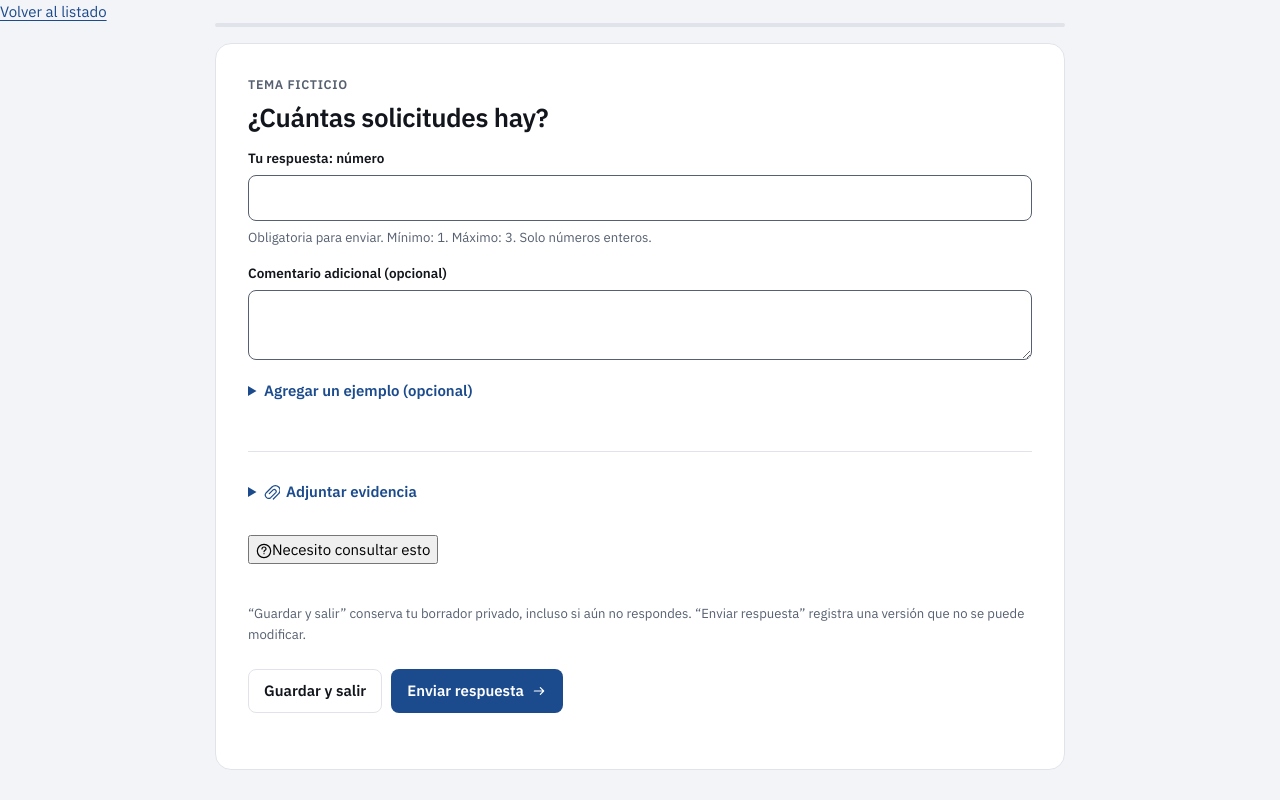
Scenario: cerrar el diálogo durante un guardado no reanuda después una salida que ya se canceló
Type "2" into the field labelled "Tu respuesta: número".
click(640, 198); type("2")  # box [248,175,1032,221]
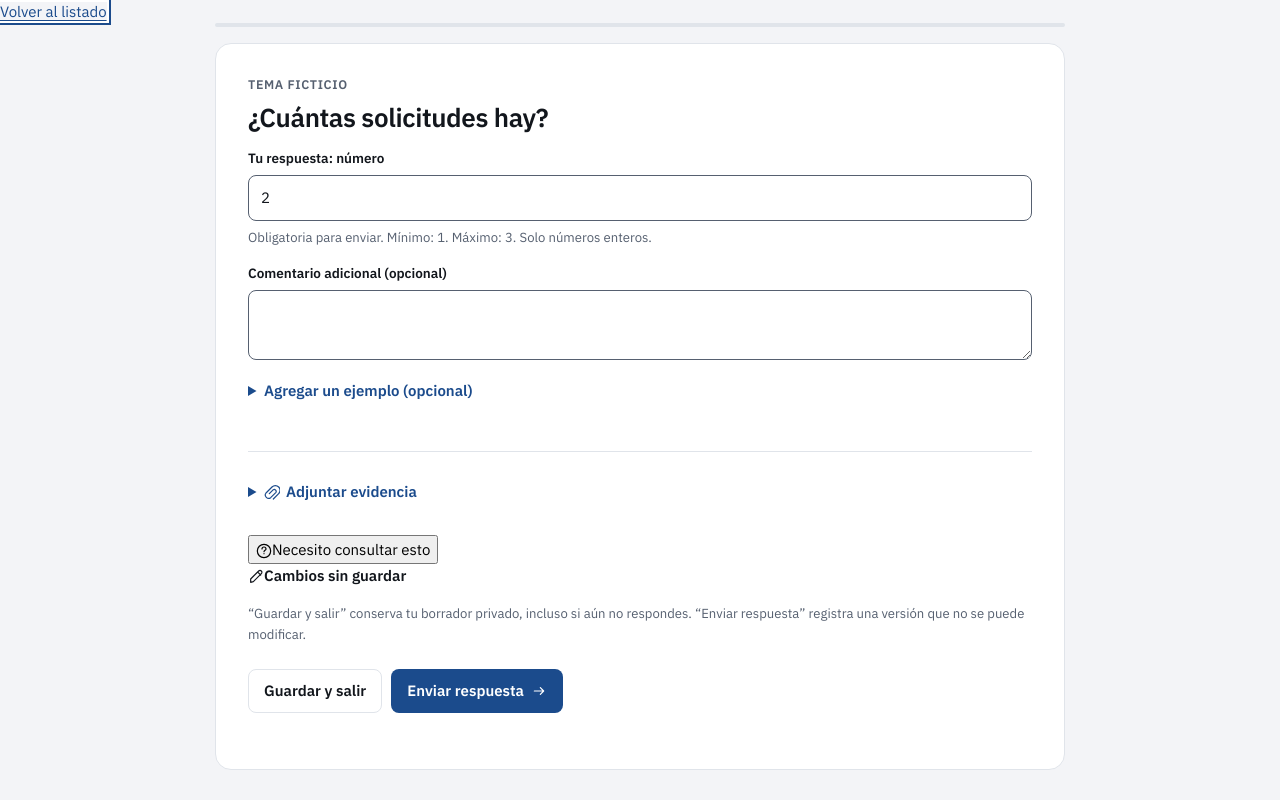
Click the link "Volver al listado".
click(53, 12)  # box [0,2,107,21]
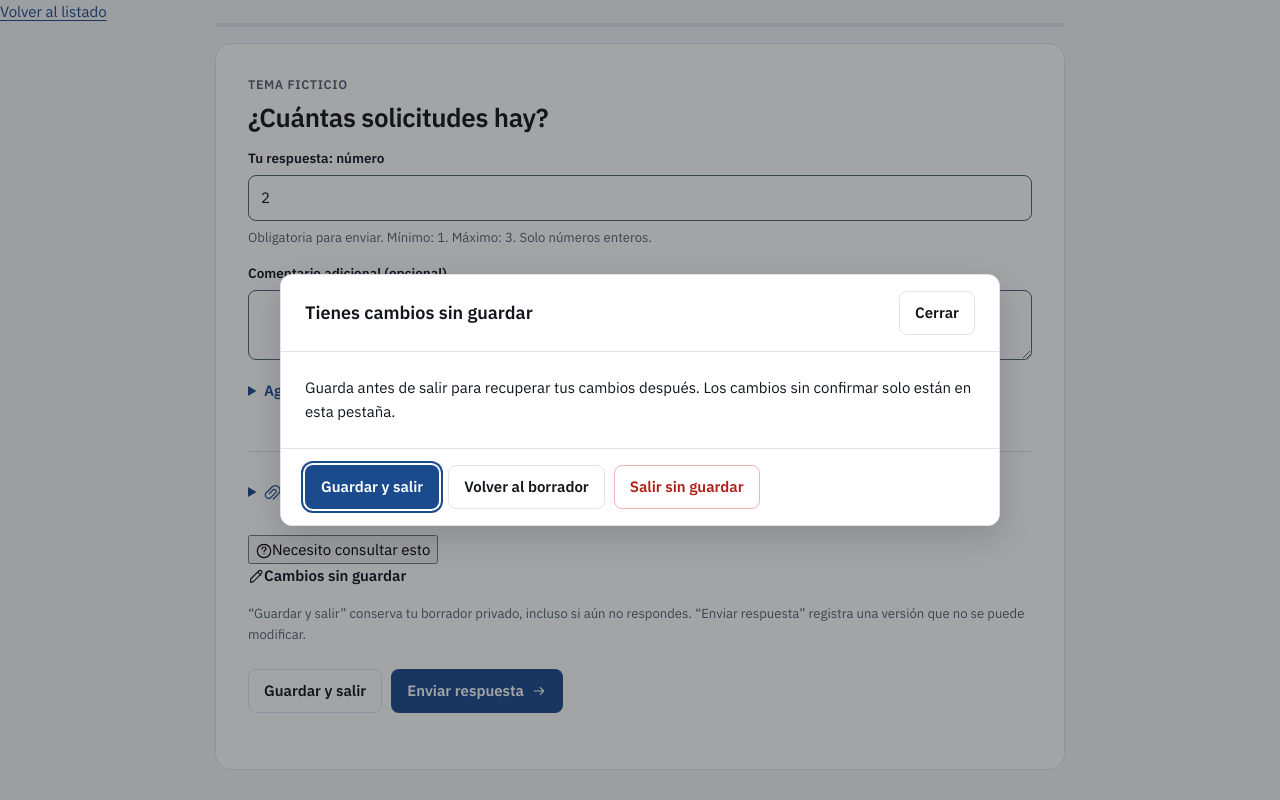
Click the button "Guardar y salir".
click(372, 487)  # box [305,465,439,509]
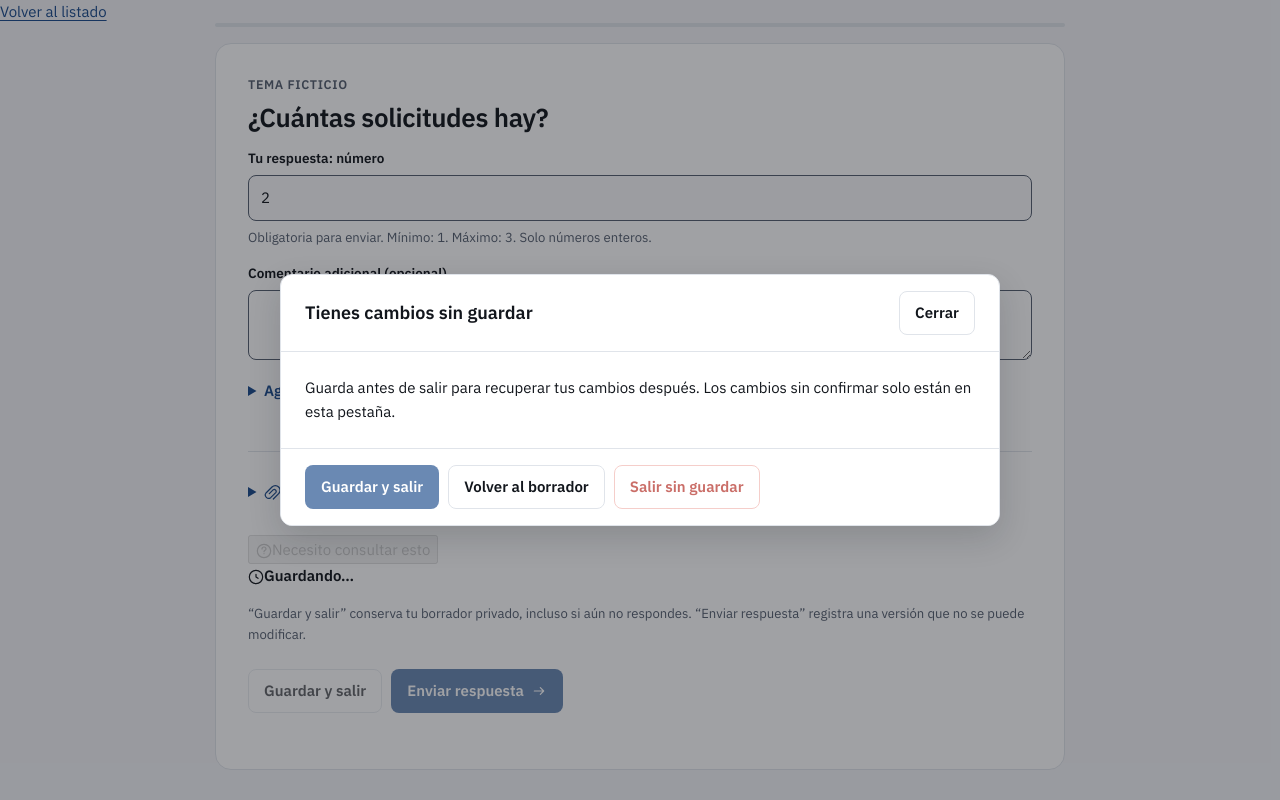
Click the button "Volver al borrador".
click(526, 487)  # box [448,465,605,509]
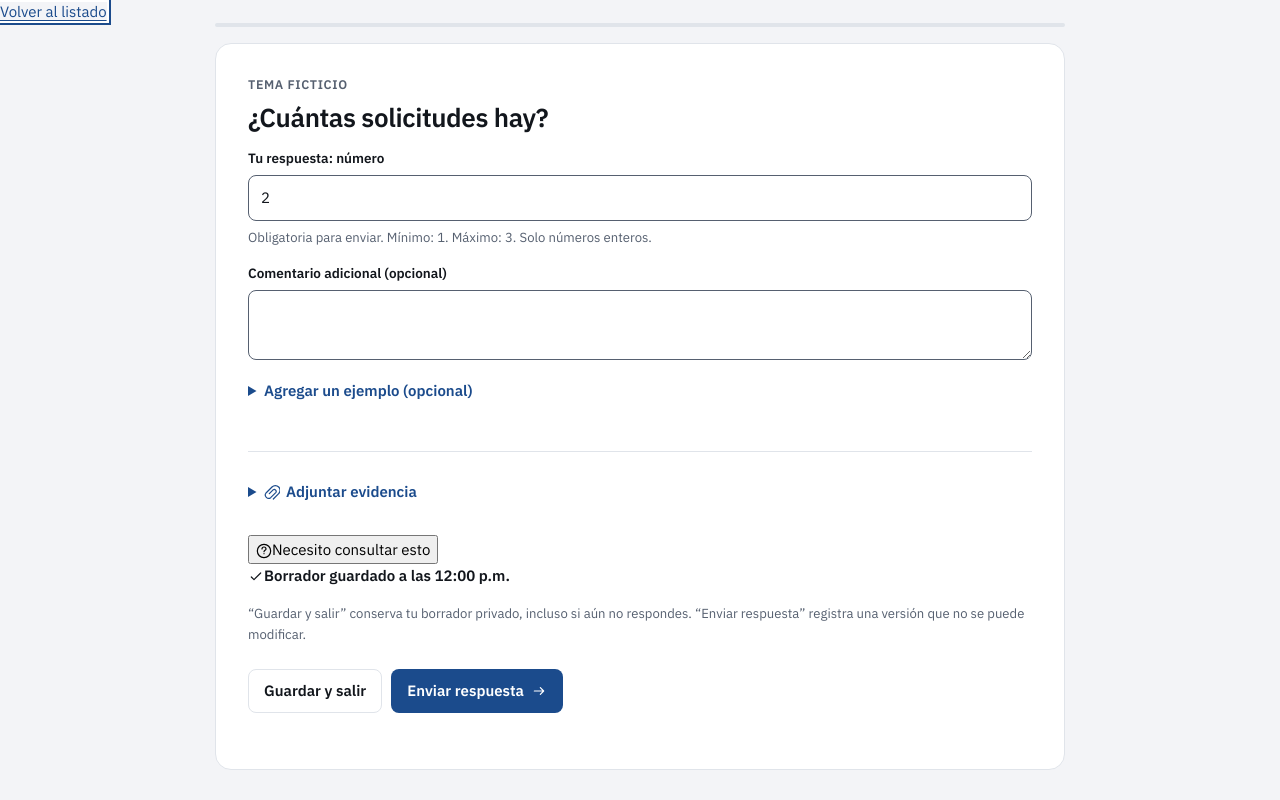
Expected: the dialog is gone
